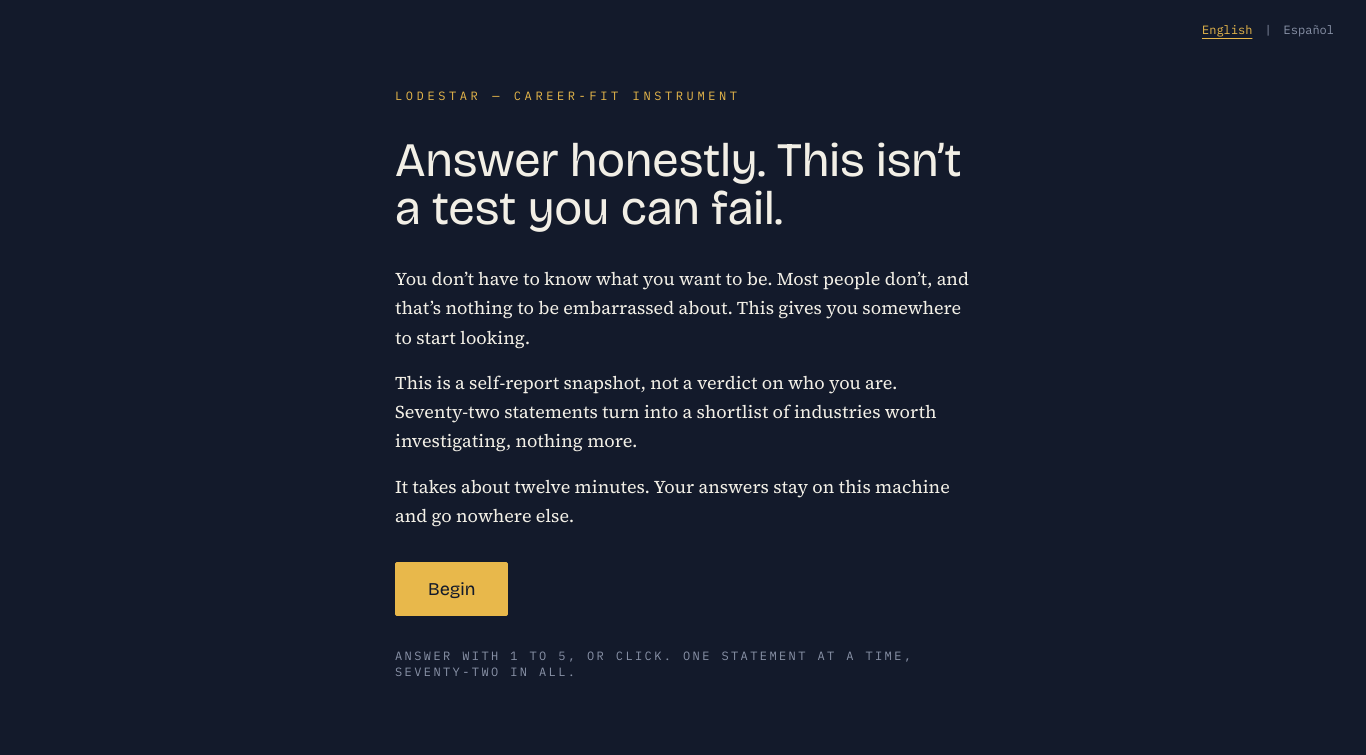
it: assessment flow › goes back without losing the previous answer
Click the button "Begin". click: [452, 589]
box: [395,562,508,616]
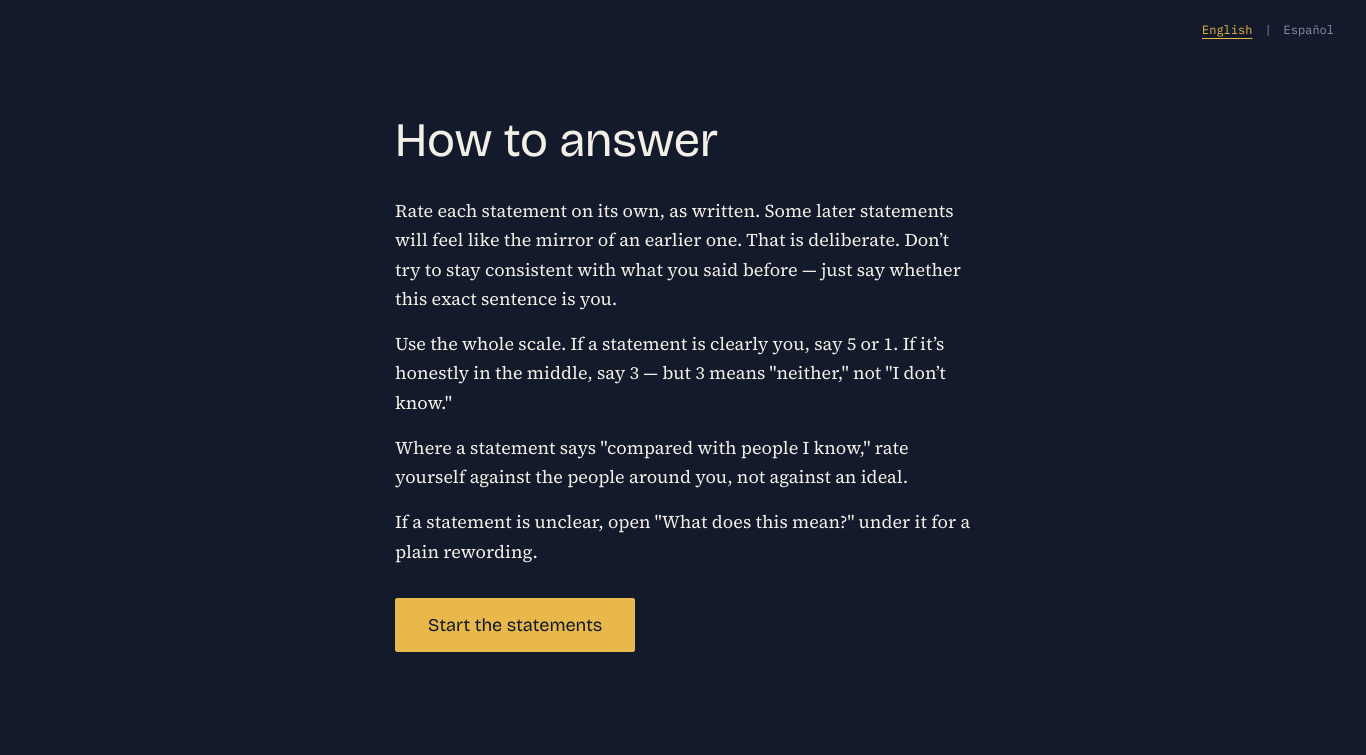
Click the button "Start the statements". click: [515, 625]
box: [395,598,635,652]
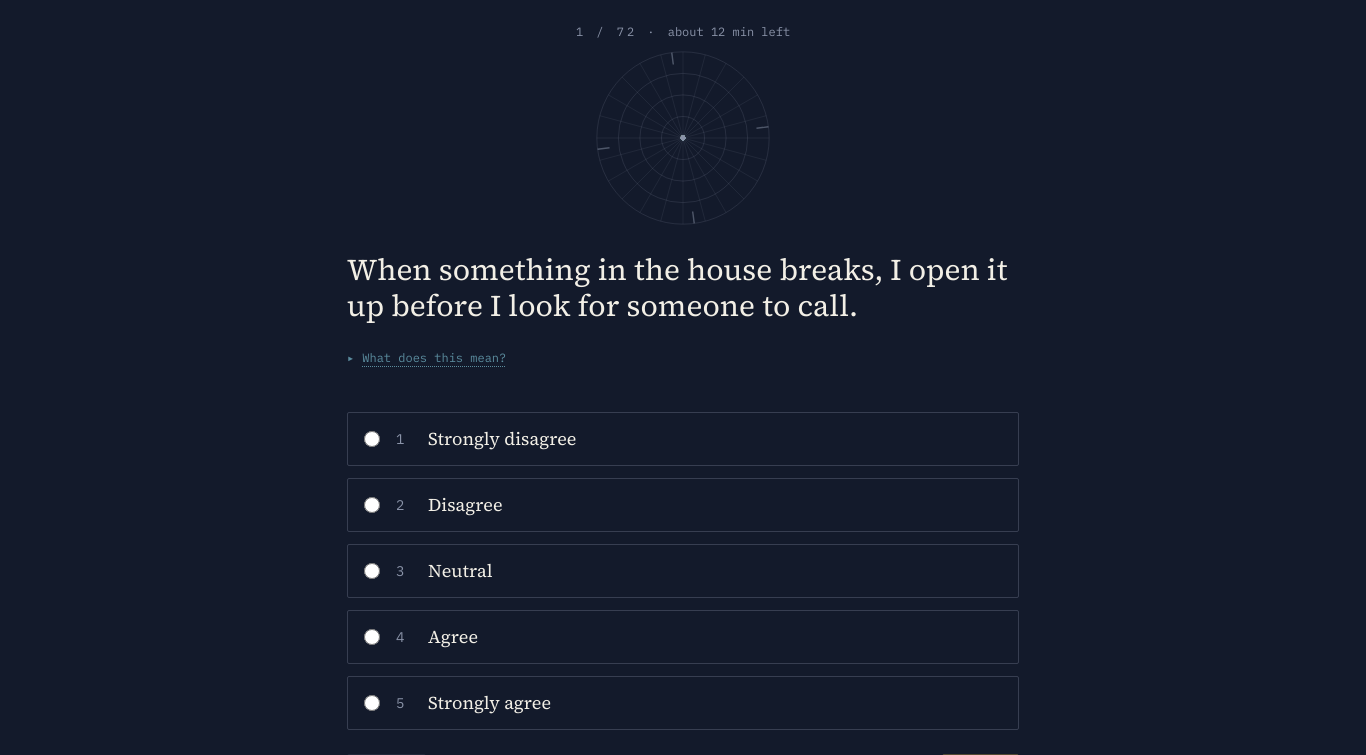
Press 4
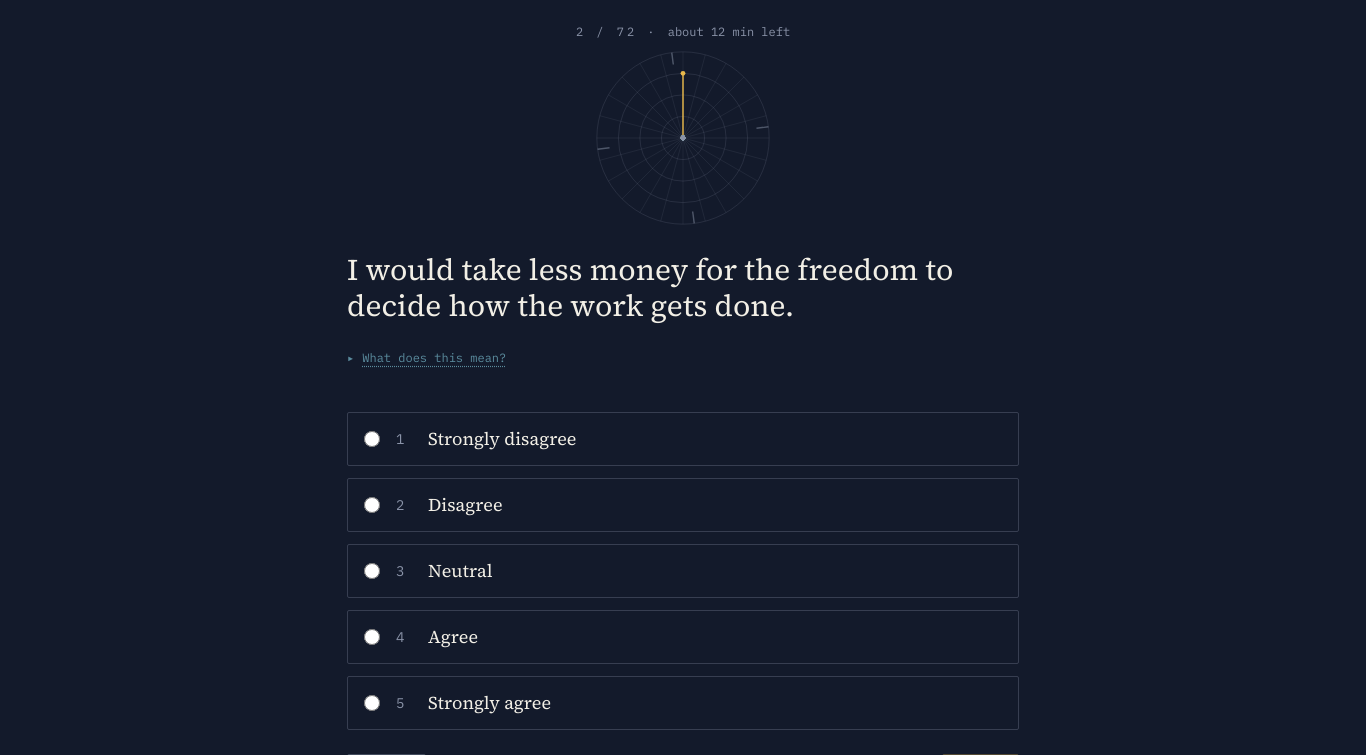
Press ArrowLeft
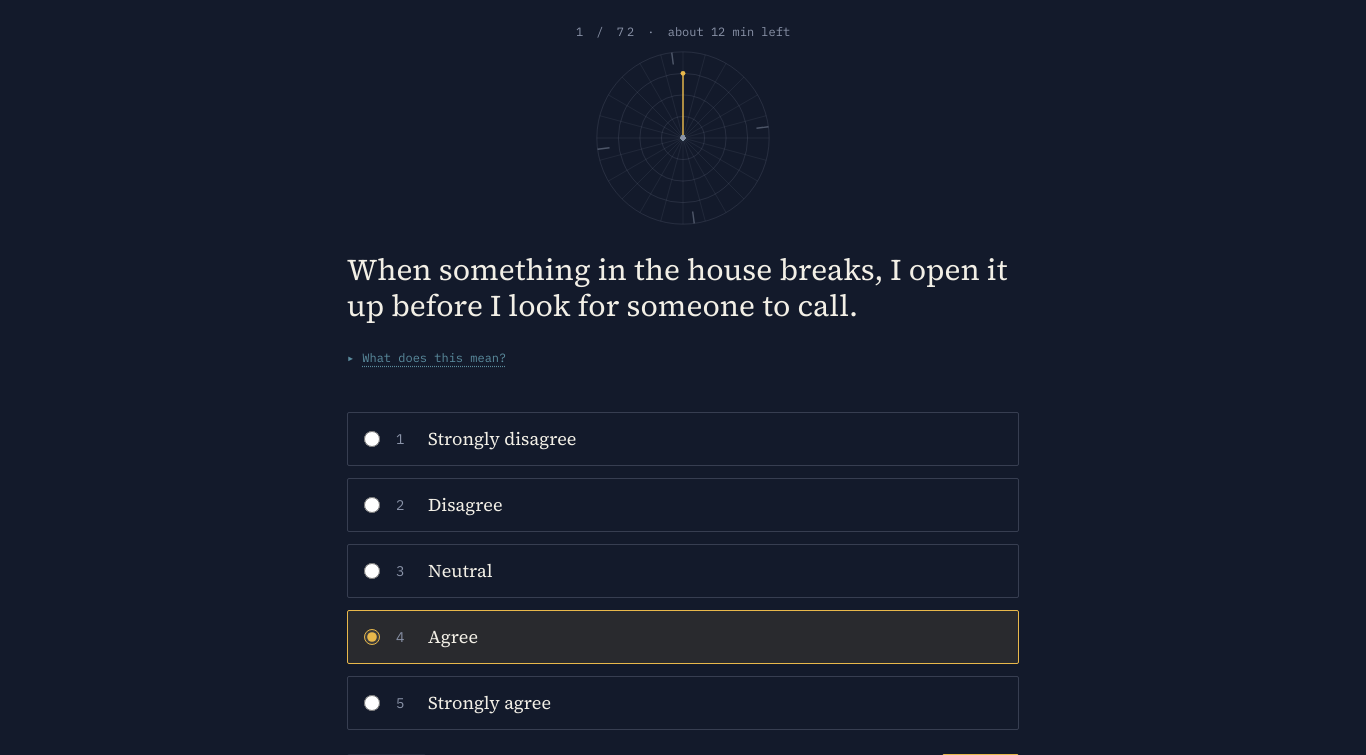
expect the text "When something in the house breaks, I open it up before I look for someone to call." is shown: met, box [347,249,1008,326]
expect the radio button labelled "4 Agree" is checked: met, box [364,629,380,645]
